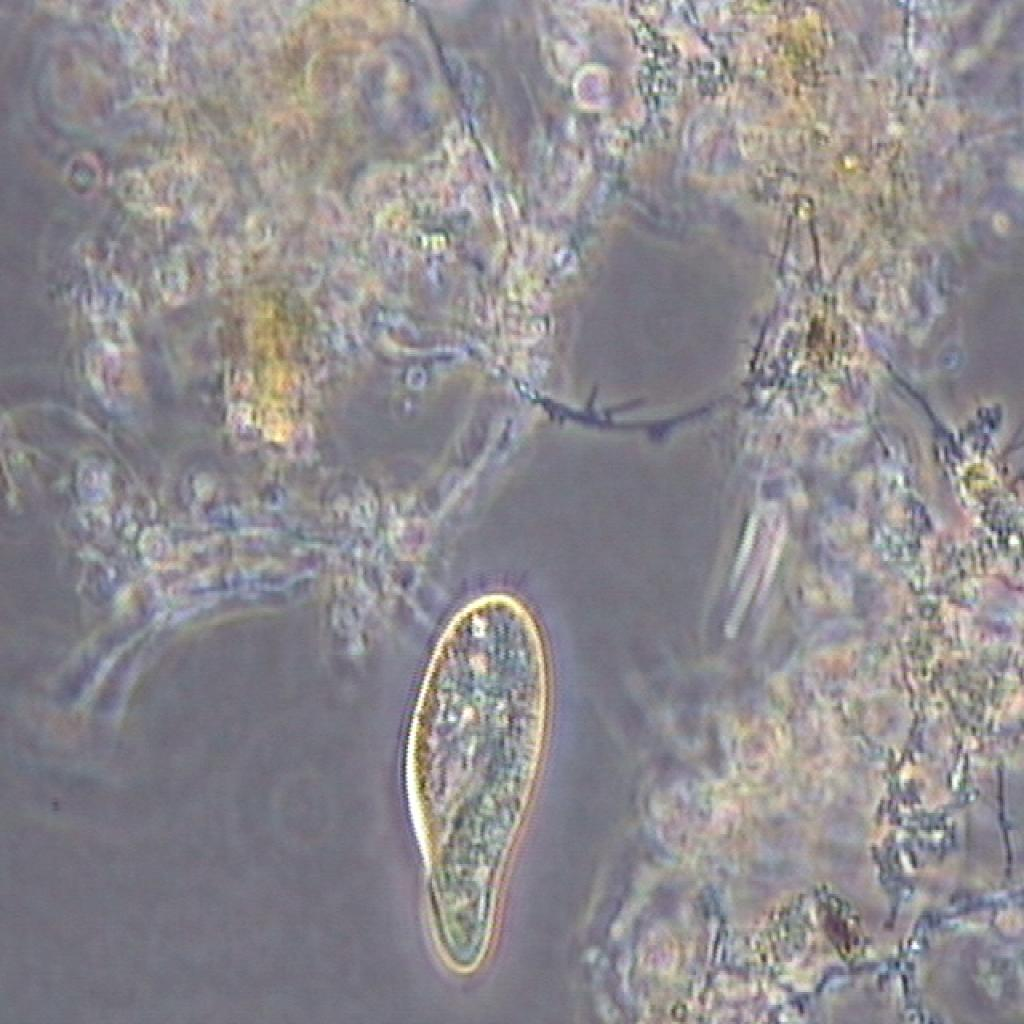Paramecium: (358, 550, 591, 980)
